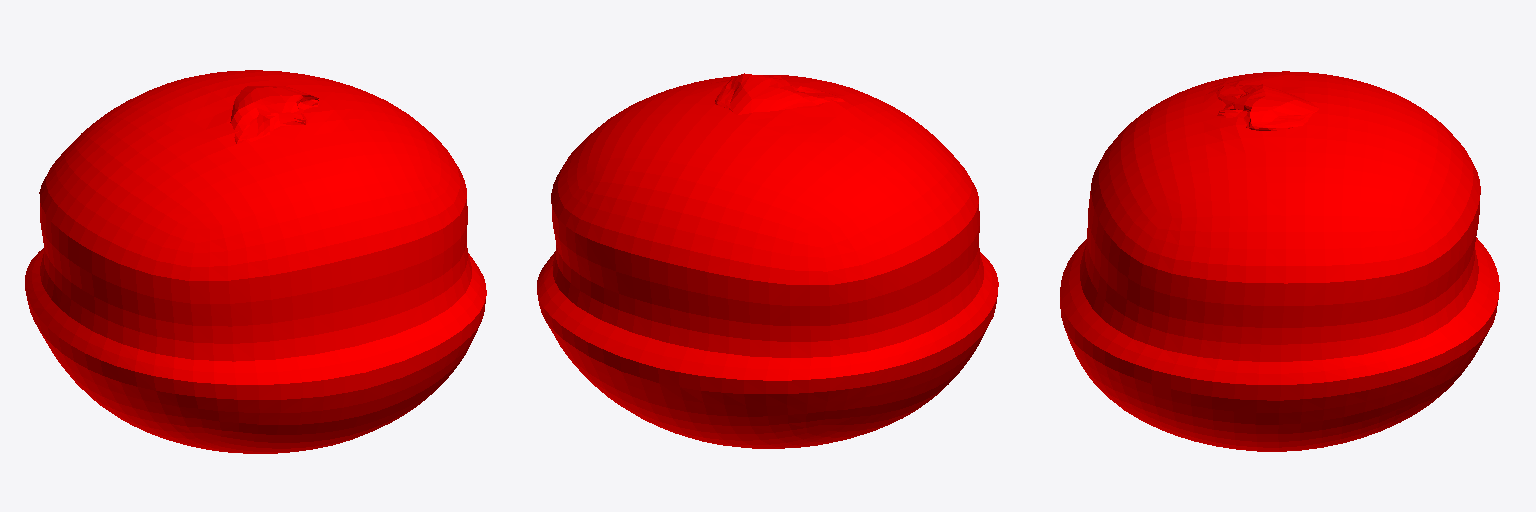
The model's file is doughnut.obj.
The picture shows the model from 3 angles: view 1: azimuth 30°, elevation 25°; view 2: azimuth 150°, elevation 25°; view 3: azimuth 270°, elevation 25°; orthographic projection.
Parts seen in each view (by area): view 1: doughnut.obj; view 2: doughnut.obj; view 3: doughnut.obj.
Boxes of the visible parts, <box> form: doughnut.obj: <box>25,70,486,453</box>; doughnut.obj: <box>537,73,998,448</box>; doughnut.obj: <box>1060,71,1499,451</box>.
Bounding box in the file's own units: 1.26 × 1.01 × 1.22.